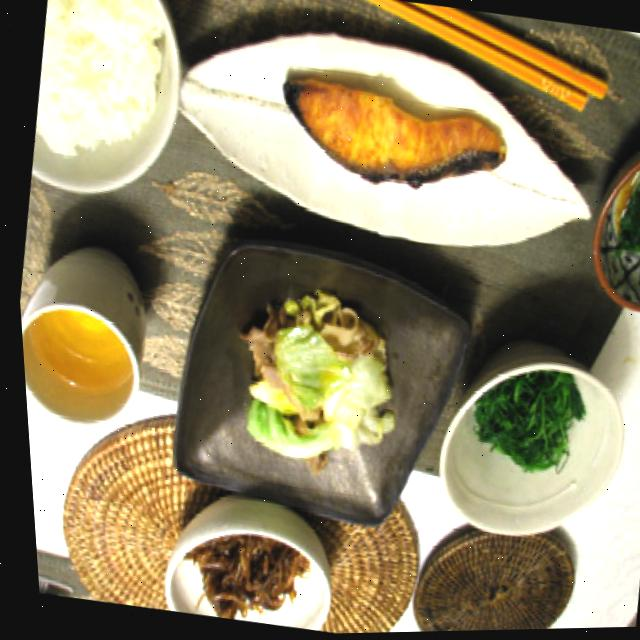蔬菜料理: (217, 290, 399, 480)
